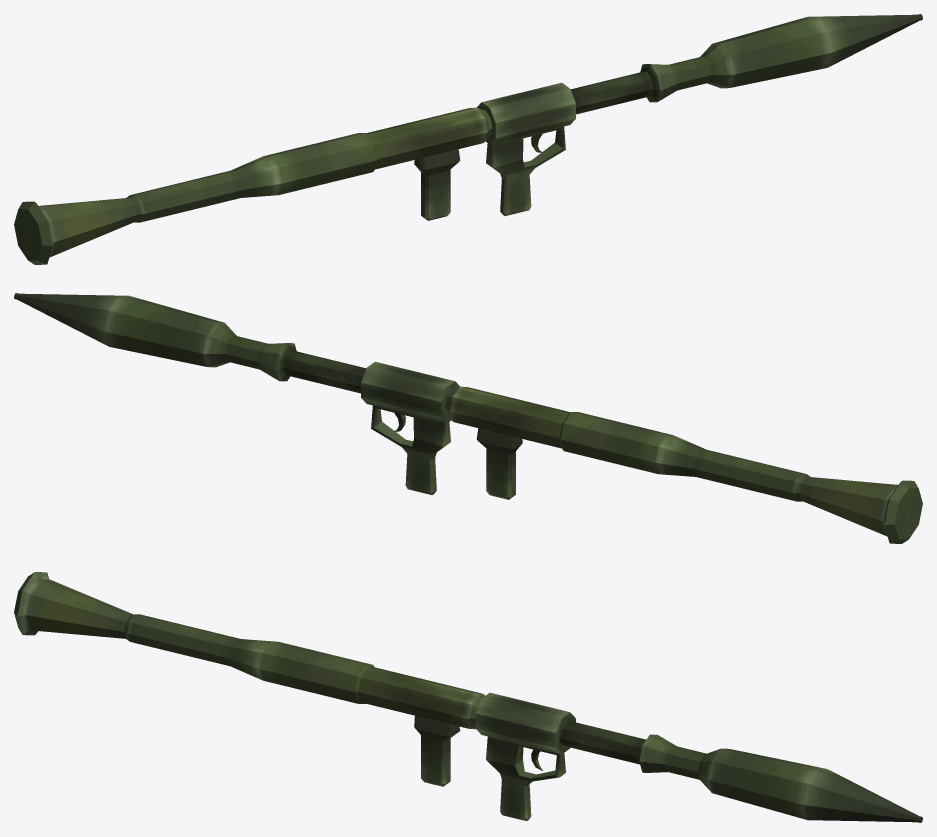
File: bazooka.glb
The picture shows the model from 3 angles, top to bottom: view 1: azimuth 30°, elevation 25°; view 2: azimuth 150°, elevation 25°; view 3: azimuth 330°, elevation 25°; orthographic projection.
Visible parts, largest first — view 1: Cylinder; view 2: Cylinder; view 3: Cylinder.
Part boxes in pixels (x1,y1,x2,y2): Cylinder: (14, 14, 922, 264); Cylinder: (14, 293, 922, 543); Cylinder: (14, 572, 922, 822).
Bounding box in the file's own units: 6.55 × 0.898 × 0.444.
Materials: 1 (1 with a texture image).
